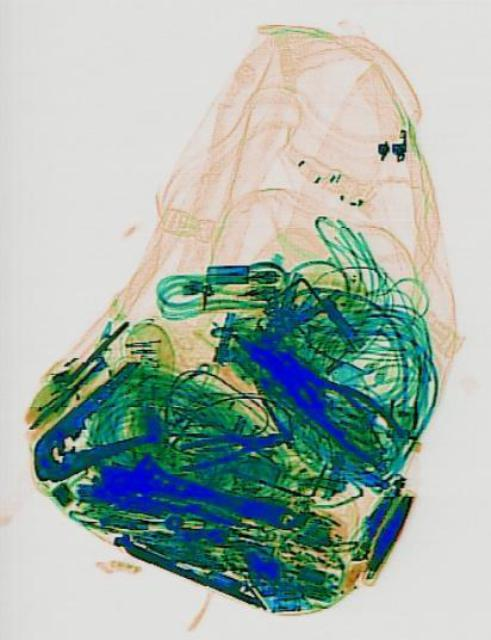Pliers: (217, 306, 406, 474), (15, 354, 169, 506), (175, 418, 280, 472)
Wrench: (94, 440, 301, 544)
